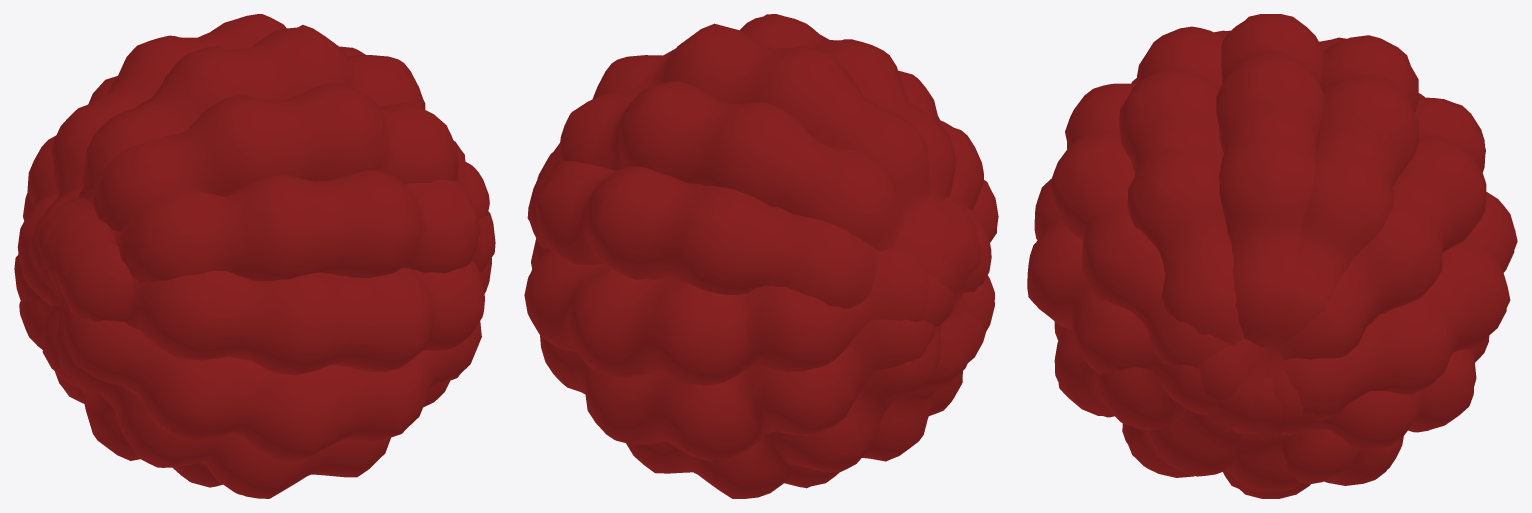
The model's file is bur.glb.
3 renders of one model, left to right at view 1: azimuth 30°, elevation 25°; view 2: azimuth 150°, elevation 25°; view 3: azimuth 270°, elevation 25°, orthographic.
Parts seen in each view (by area): view 1: Icosphere.006; view 2: Icosphere.006; view 3: Icosphere.006.
Boxes of the visible parts, x1,y1,x2,y2 form: Icosphere.006: [14, 14, 495, 498]; Icosphere.006: [524, 14, 998, 498]; Icosphere.006: [1027, 14, 1517, 498].
Size of the model in its own units: 1.58 by 1.57 by 1.59.
